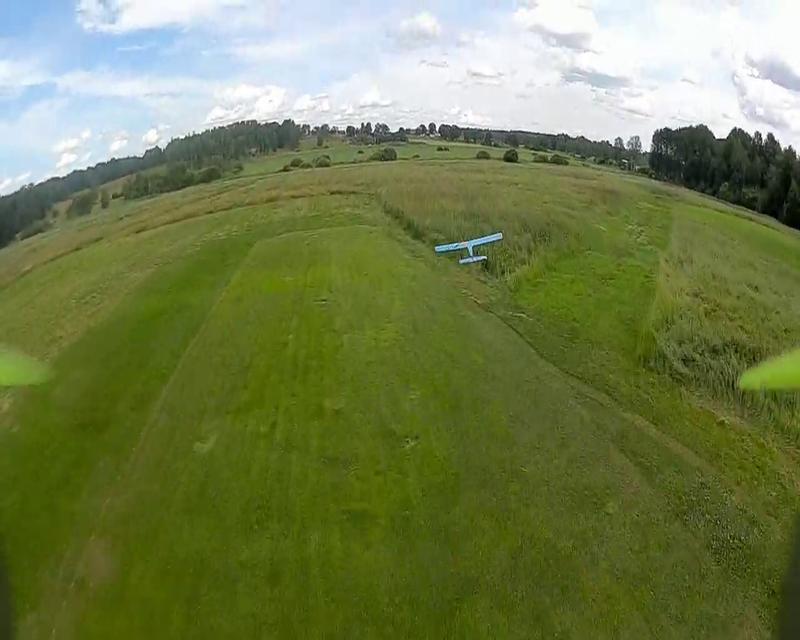UAV: (435, 231, 503, 265)
